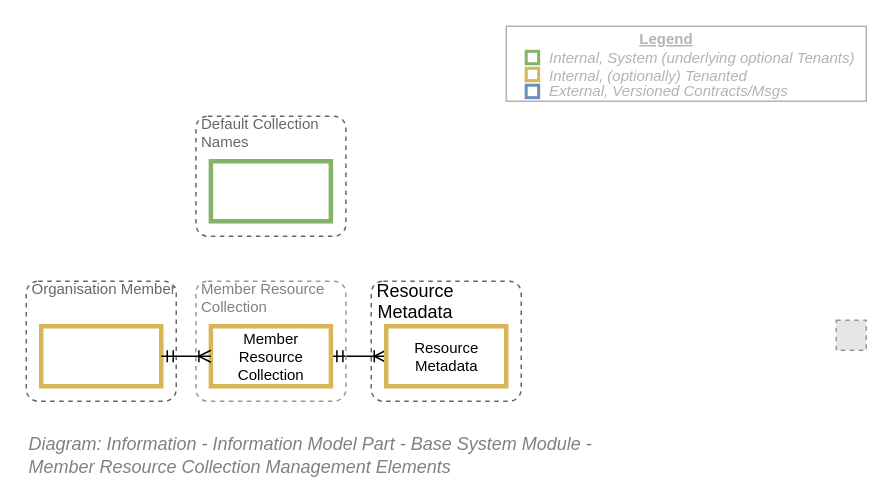
Image size: 893x503. Some labels were removed from this diagram. Grey dashed boxes stand in for pictures. The centre of each missing label's shape, as x and y in pixels:
[System] Resource Collection Name: the point at 270,190
Member: the point at 100,355
